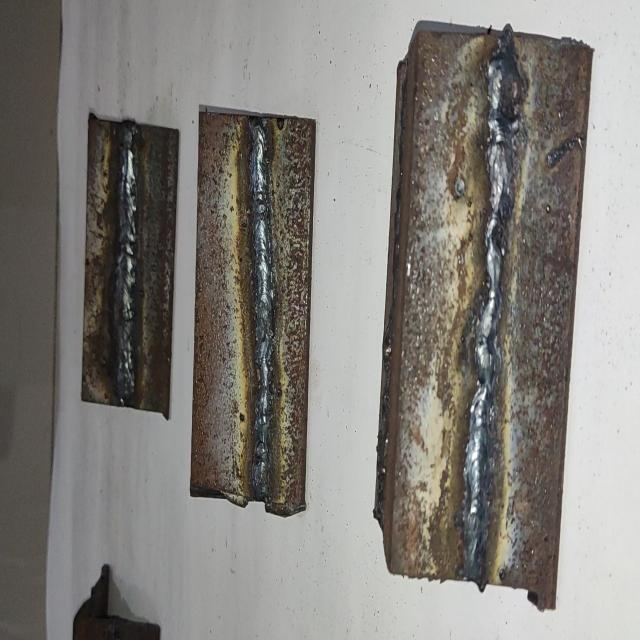Defect: (483, 39, 524, 266)
Welding Line: (462, 41, 520, 573), (249, 122, 273, 493), (113, 122, 141, 401)
Workpiece: (370, 24, 600, 618), (191, 108, 316, 512), (78, 105, 180, 422)
